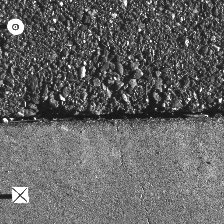circle: (7, 18, 25, 35)
crack: (1, 107, 223, 124)
square: (12, 187, 28, 203)
